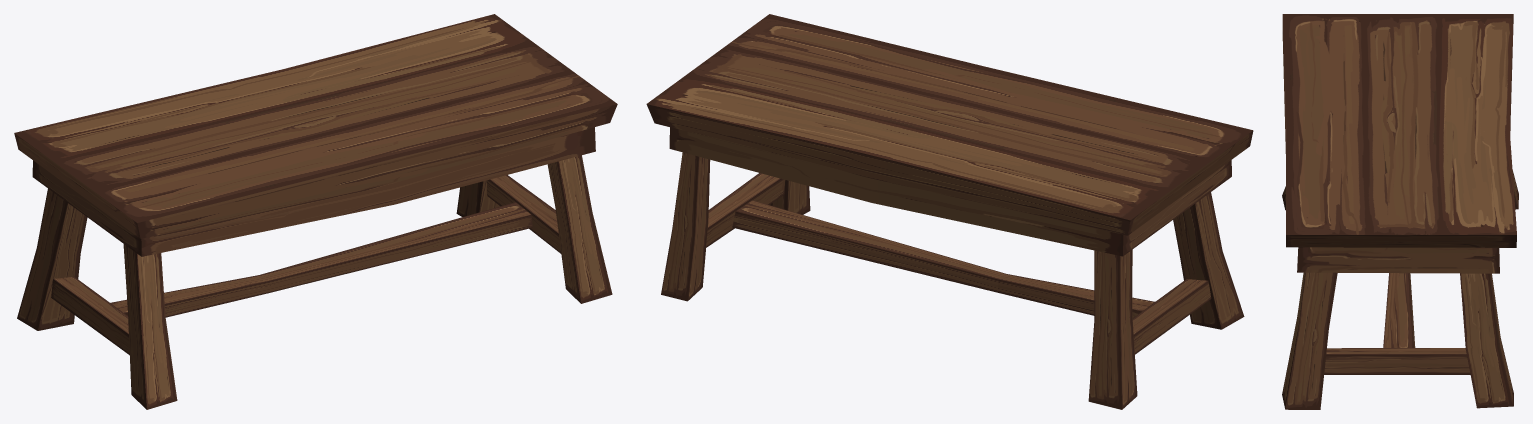
File: SM_PROP_table_interior_08.fbx
The picture shows the model from 3 angles, left to right: view 1: azimuth 30°, elevation 25°; view 2: azimuth 150°, elevation 25°; view 3: azimuth 270°, elevation 25°; orthographic projection. The views are drawn at different scales.
Visible parts, largest first — view 1: SM_PROP_table_interior_08; view 2: SM_PROP_table_interior_08; view 3: SM_PROP_table_interior_08.
Boxes of the visible parts, left/top/right/bottom form: SM_PROP_table_interior_08: left=14, top=14, right=617, bottom=409; SM_PROP_table_interior_08: left=646, top=14, right=1253, bottom=409; SM_PROP_table_interior_08: left=1282, top=14, right=1518, bottom=409.
Bounding box in the file's own units: 221 × 82.64 × 100.
